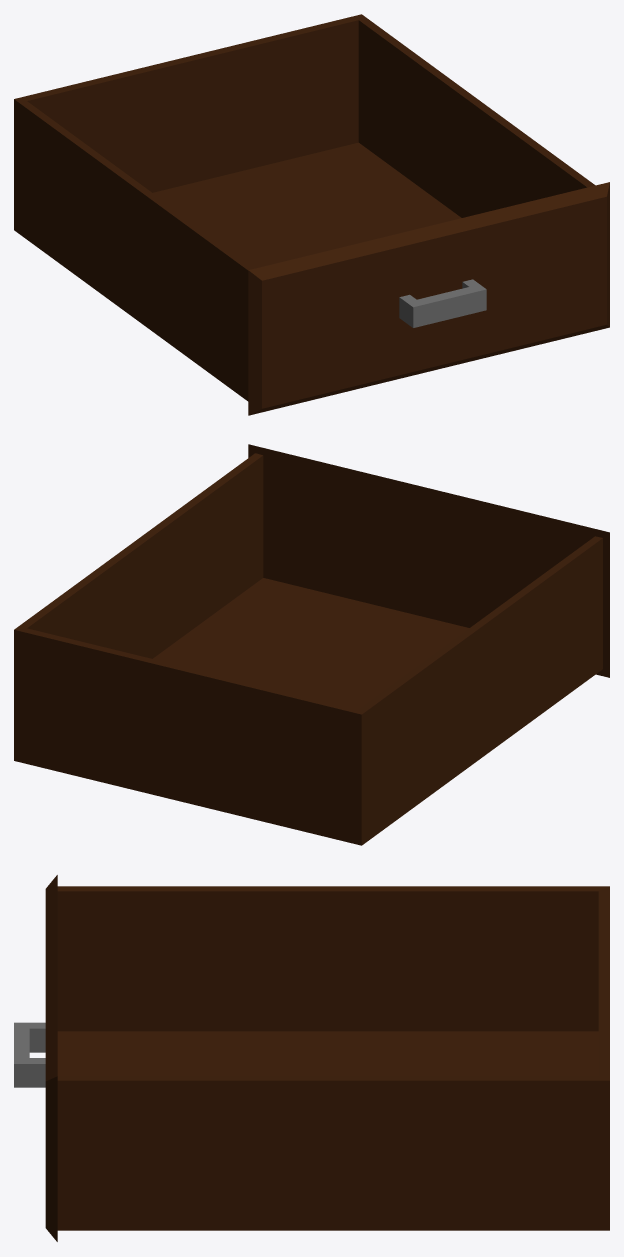
Rendered from CajonMesitaDeLuzV2.fbx.
The picture shows the model from 3 angles, top to bottom: view 1: azimuth 30°, elevation 25°; view 2: azimuth 150°, elevation 25°; view 3: azimuth 270°, elevation 25°; orthographic projection. The views are drawn at different scales.
Visible parts, largest first — view 1: Cajon; view 2: Cajon; view 3: Cajon.
Boxes of the visible parts, bbox=[...] form: Cajon: bbox=[14, 14, 609, 415]; Cajon: bbox=[14, 444, 609, 845]; Cajon: bbox=[14, 875, 609, 1241].
Bounding box in the file's own units: 162 × 62.27 × 202.
